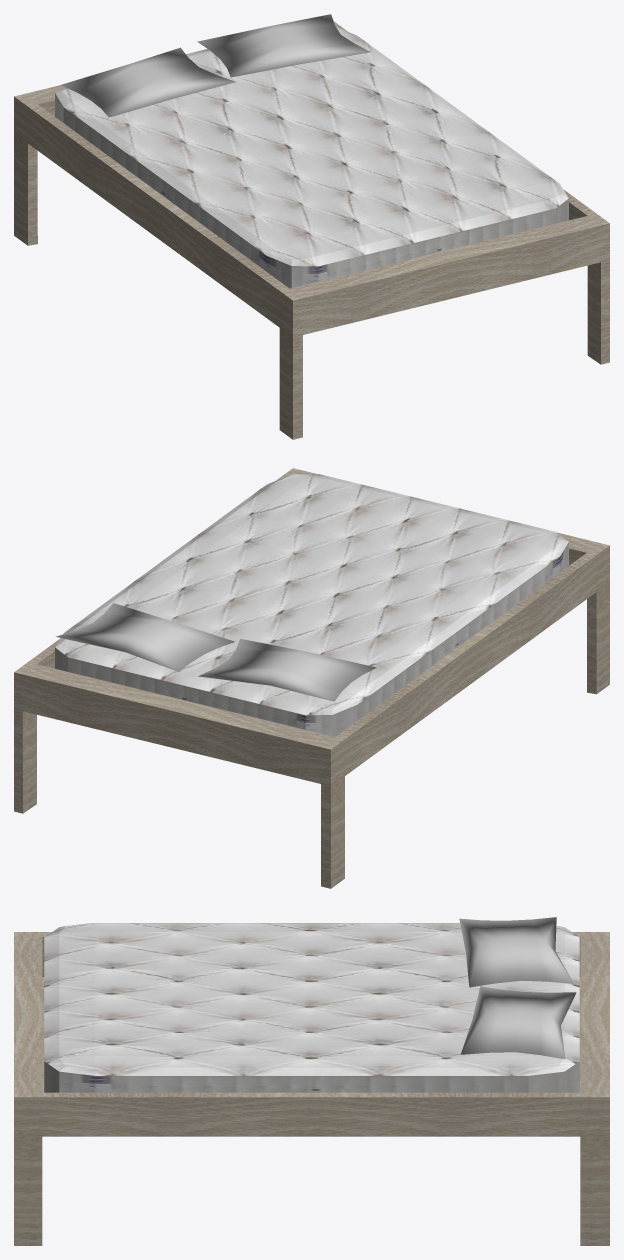
File: Bed_Double.fbx.fbx
3 views of the same model, one above another, from view 1: azimuth 30°, elevation 25°; view 2: azimuth 150°, elevation 25°; view 3: azimuth 270°, elevation 25° (orthographic). The views are drawn at different scales.
Parts seen in each view (by area): view 1: Mattress, Bed Frame, pillow.001, pillow; view 2: Mattress, Bed Frame, pillow, pillow.001; view 3: Mattress, Bed Frame, pillow.001, pillow.
Part boxes in pixels (left/top/right/bottom): Mattress: left=55, top=27, right=568, bottom=288; Bed Frame: left=14, top=21, right=609, bottom=439; pillow.001: left=197, top=14, right=370, bottom=77; pillow: left=61, top=47, right=235, bottom=117; Mattress: left=55, top=474, right=568, bottom=736; Bed Frame: left=14, top=468, right=609, bottom=888; pillow: left=198, top=639, right=376, bottom=701; pillow.001: left=56, top=603, right=235, bottom=671; Mattress: left=44, top=923, right=579, bottom=1092; Bed Frame: left=14, top=932, right=609, bottom=1245; pillow.001: left=460, top=986, right=576, bottom=1059; pillow: left=459, top=917, right=573, bottom=987.
Bounding box in the file's own units: 149 × 79.21 × 226.
